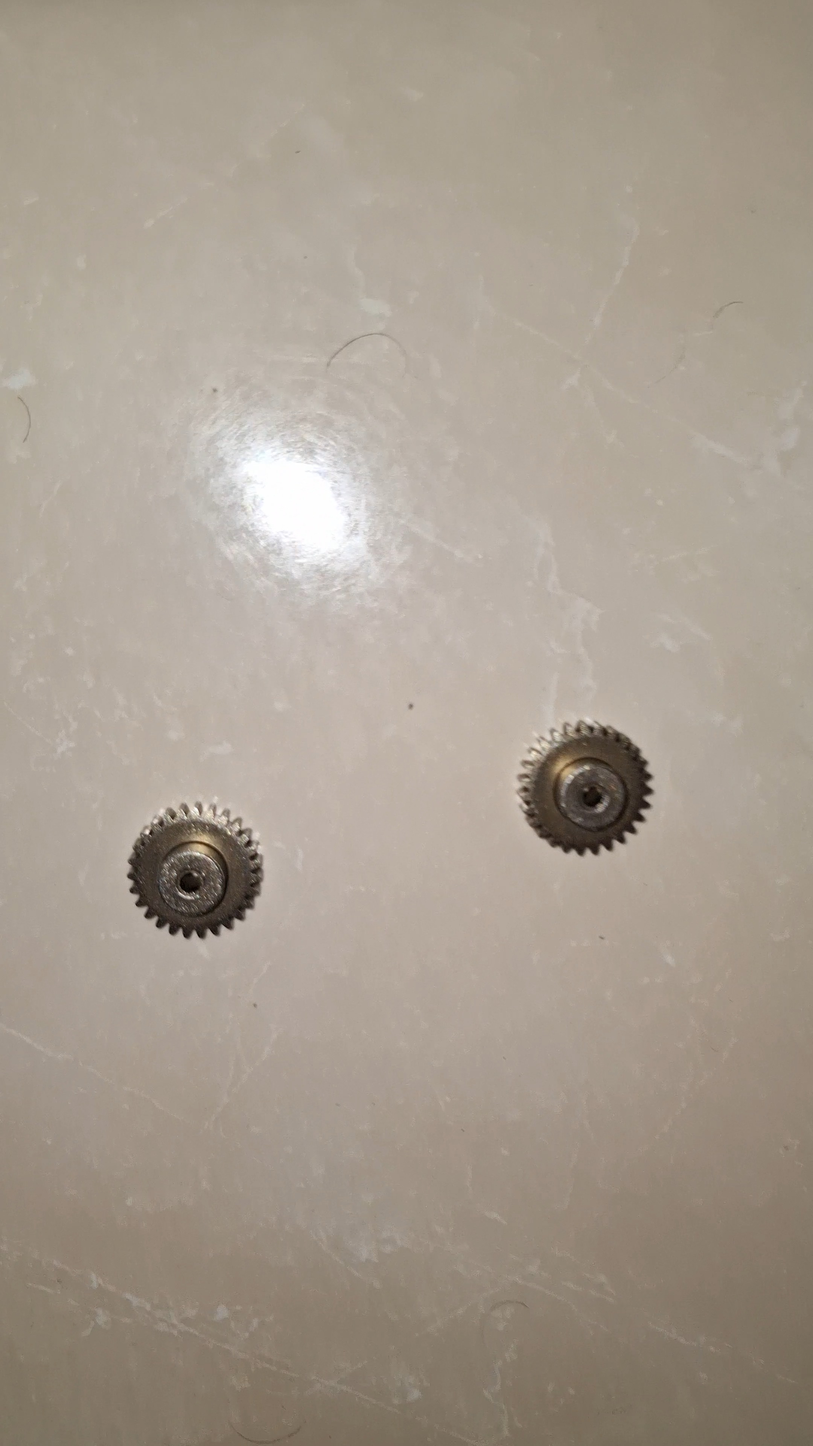spur gear: (128, 804, 262, 937), (519, 720, 652, 854)
